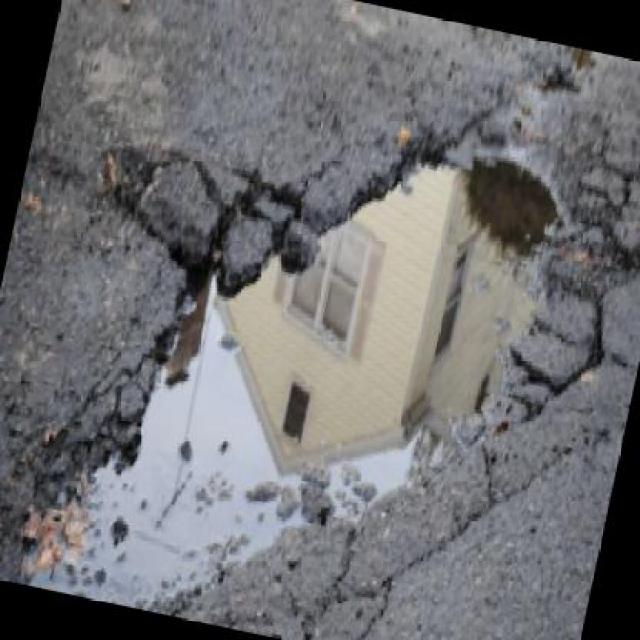pothole1: (14, 37, 638, 638)
